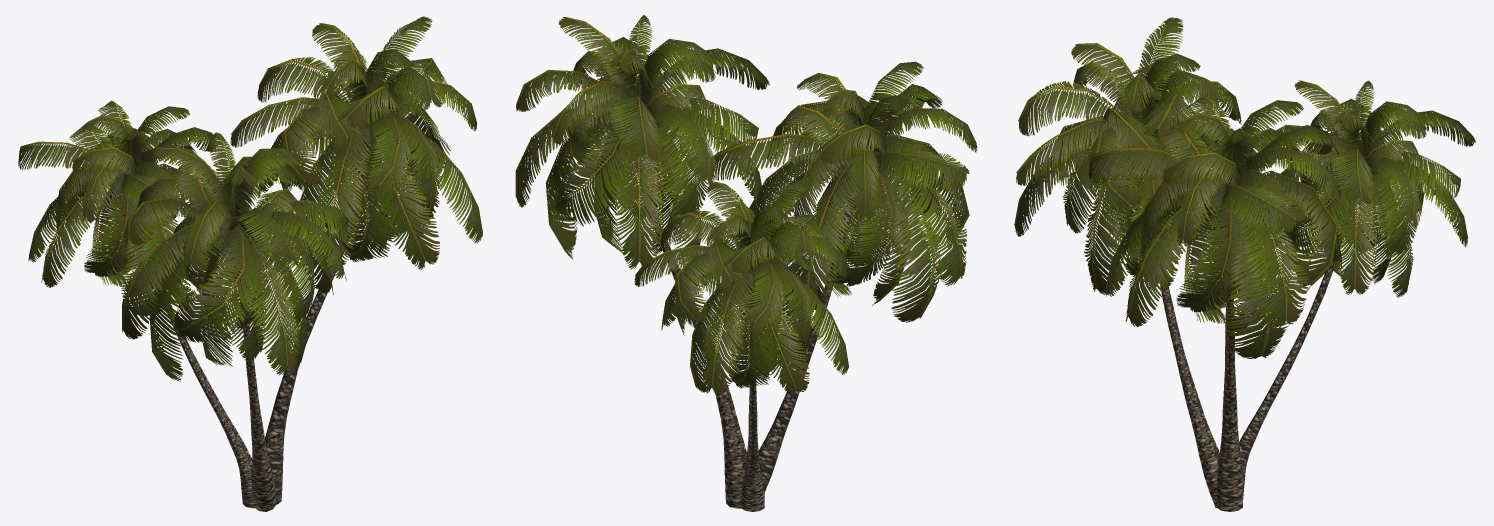
The model's file is tree_palm_tropical_05.glb.
3 views of the same model, side by side, from view 1: azimuth 30°, elevation 25°; view 2: azimuth 150°, elevation 25°; view 3: azimuth 270°, elevation 25° (orthographic). The views are drawn at different scales.
Visible parts, largest first — view 1: tree_palm_tropical_05; view 2: tree_palm_tropical_05; view 3: tree_palm_tropical_05.
Part boxes in pixels (x1,y1,x2,y2): tree_palm_tropical_05: [18, 16, 482, 511]; tree_palm_tropical_05: [515, 15, 977, 511]; tree_palm_tropical_05: [1014, 17, 1475, 511].
Size of the model in its own units: 22.39 by 24.92 by 23.1.
Materials: 1 (1 with a texture image).
